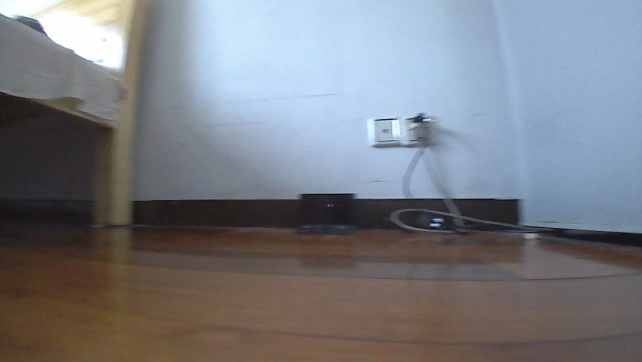charger: (291, 190, 360, 235)
wire: (384, 205, 535, 238)
